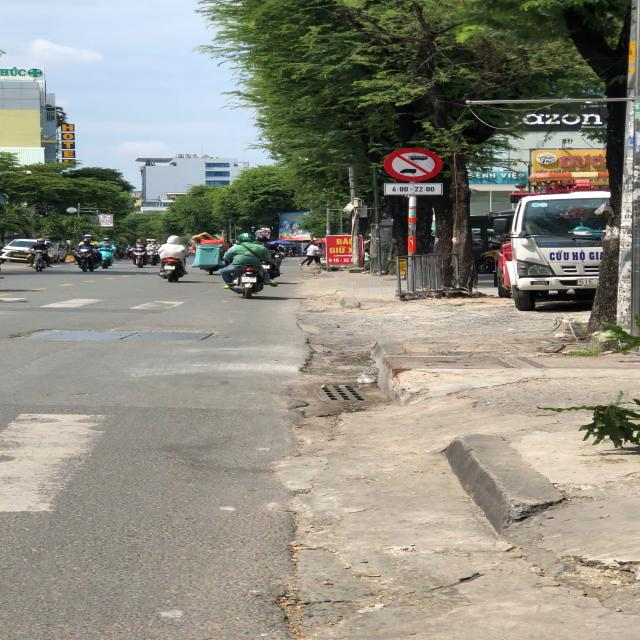Bien bao cam xe oto khach va xe oto tai: (377, 147, 446, 183)
